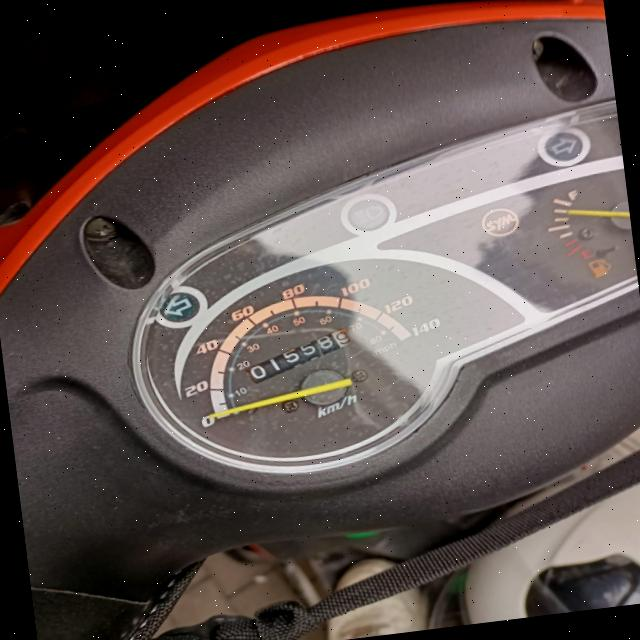odometer: (238, 326, 356, 388)
